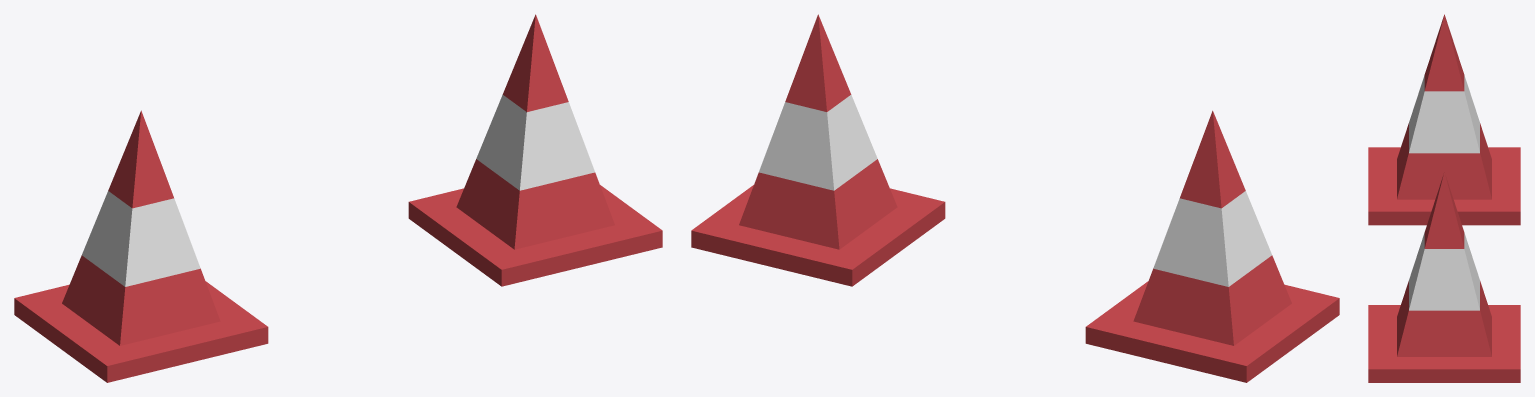
Rendered from kuzelky.fbx.
The picture shows the model from 3 angles, left to right: view 1: azimuth 30°, elevation 25°; view 2: azimuth 150°, elevation 25°; view 3: azimuth 270°, elevation 25°; orthographic projection. The views are drawn at different scales.
Parts seen in each view (by area): view 1: kuzelky; view 2: kuzelky; view 3: kuzelky.
Boxes of the visible parts, bbox=[...] form: kuzelky: bbox=[14, 14, 662, 382]; kuzelky: bbox=[691, 14, 1339, 382]; kuzelky: bbox=[1368, 14, 1520, 382].
Size of the model in its own units: 173 by 65 by 50.
Materials: 1 (1 with a texture image).
